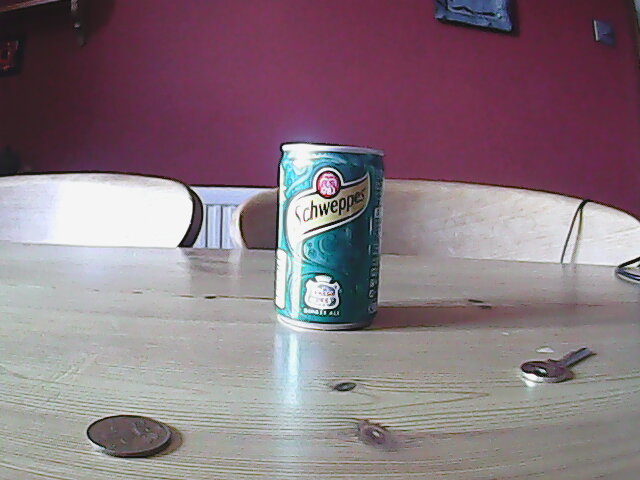Can: (273, 140, 389, 332)
Coin: (84, 413, 175, 459)
Key: (516, 345, 594, 393)
